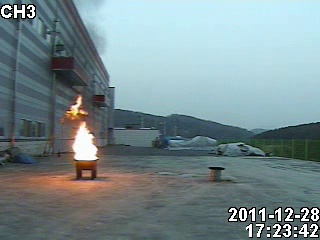fire: (61, 93, 99, 162)
